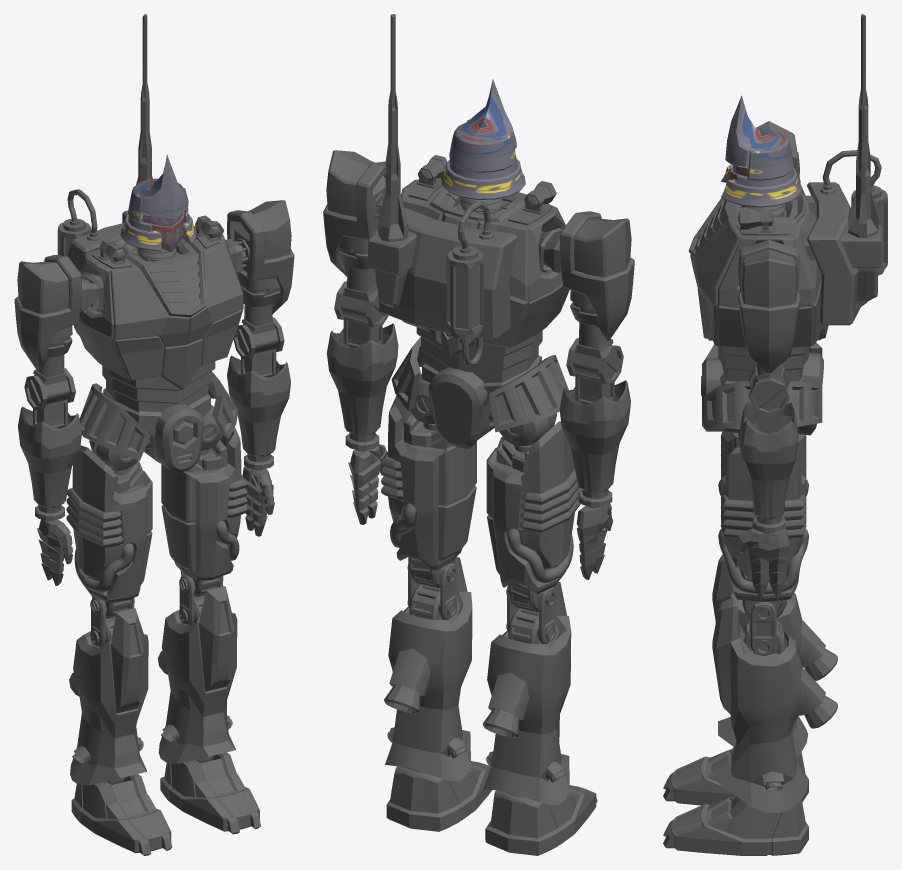
File: Keres_low(In_progress_for_andrew_to_check).fbx
The picture shows the model from 3 angles, left to right: view 1: azimuth 30°, elevation 25°; view 2: azimuth 150°, elevation 25°; view 3: azimuth 270°, elevation 25°; orthographic projection. The views are drawn at different scales.
Visible parts, largest first — view 1: LegArmor (×2), ThighArmor (×2), ShoulderBicep (×2), ChestChassis, Foot_low (×2), KneeArmor (×2), InnerThigh (×2), Toe (×2), Chestplate_upperright, ElbowConnector (×2), Pelvis_low, polySurface10 (+21 smaller); view 2: LegArmor (×2), ThighArmor (×2), Backpack, ShoulderBicep (×2), ChestChassis, Foot_low (×2), InnerThigh (×2), polySurface10, ElbowConnector (×2), Pelvis_low, ArmArmor4 (×2), ArmArmor1 (×2) (+16 smaller); view 3: LegArmor (×2), Backpack, ChestChassis, ShoulderBicep (×2), ThighArmor (×2), polySurface10, Foot_low (×2), Toe (×2), SideArmor_left, KneeArmor (×2), ArmArmor4, ArmArmor3 (+12 smaller).
Boxes of the visible parts, x1,y1,x2,y2 form: LegArmor (×2): [69, 595, 237, 785]; ThighArmor (×2): [66, 427, 247, 602]; ShoulderBicep (×2): [14, 200, 294, 371]; ChestChassis: [75, 226, 242, 389]; Foot_low (×2): [71, 752, 245, 832]; KneeArmor (×2): [111, 586, 234, 713]; InnerThigh (×2): [114, 440, 226, 585]; Toe (×2): [93, 787, 260, 855]; Chestplate_upperright: [110, 267, 189, 347]; ElbowConnector (×2): [24, 304, 284, 410]; Pelvis_low: [103, 388, 210, 472]; polySurface10: [120, 154, 196, 251]; LegArmor (×2): [384, 584, 571, 805]; ThighArmor (×2): [381, 395, 582, 593]; Backpack: [368, 14, 517, 339]; ShoulderBicep (×2): [323, 150, 634, 340]; ChestChassis: [400, 178, 569, 357]; Foot_low (×2): [386, 766, 580, 855]; InnerThigh (×2): [403, 413, 528, 574]; polySurface10: [441, 79, 525, 199]; ElbowConnector (×2): [334, 265, 623, 384]; Pelvis_low: [422, 355, 541, 448]; ArmArmor4 (×2): [327, 330, 621, 492]; ArmArmor1 (×2): [347, 339, 588, 491]; LegArmor (×2): [718, 593, 837, 812]; Backpack: [804, 14, 881, 325]; ChestChassis: [688, 180, 828, 348]; ShoulderBicep (×2): [737, 121, 800, 372]; ThighArmor (×2): [718, 431, 808, 601]; polySurface10: [721, 95, 801, 207]; Foot_low (×2): [705, 747, 808, 855]; Toe (×2): [663, 756, 742, 855]; SideArmor_left: [704, 381, 822, 429]; KneeArmor (×2): [712, 554, 738, 714]; ArmArmor4: [769, 421, 798, 518]; ArmArmor3: [739, 421, 768, 518].
Bounding box in the file's own units: 12.38 × 33.15 × 8.23.
